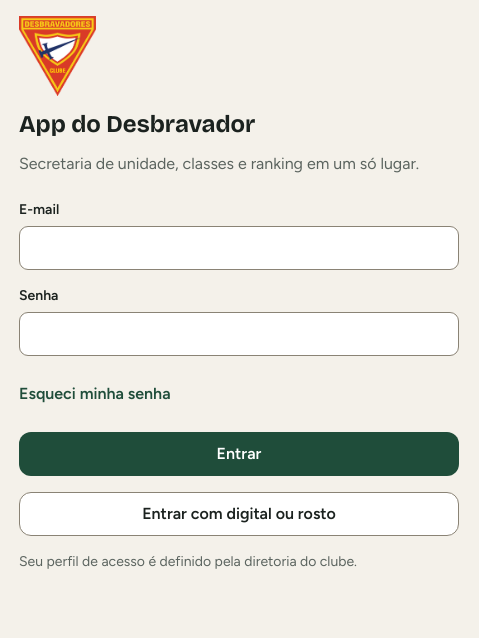
it: login › valida os campos com o contrato antes de enviar
In the field labelled "E-mail": (239, 248) [19,226,459,270], type "sem-arroba"
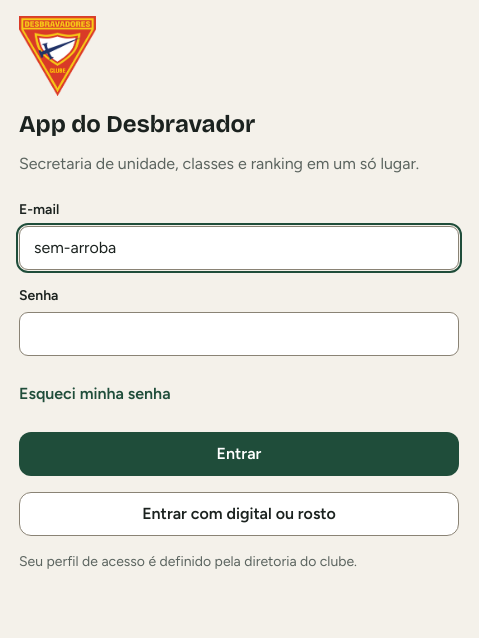
Click the button "Entrar": (239, 454) [19,432,459,476]
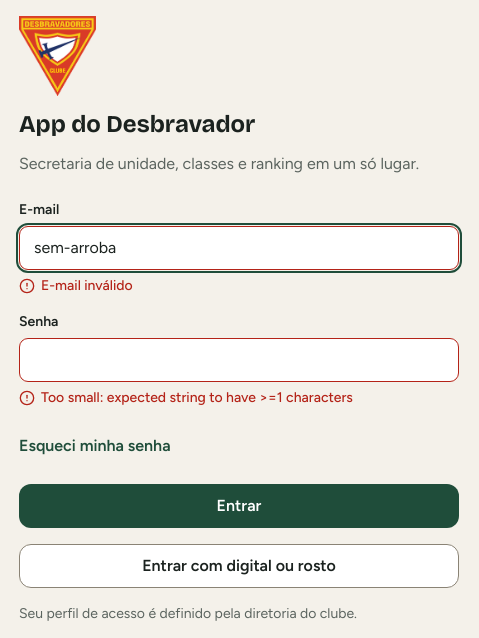
Now the text "E-mail inválido" is shown, box [19,277,133,294]
